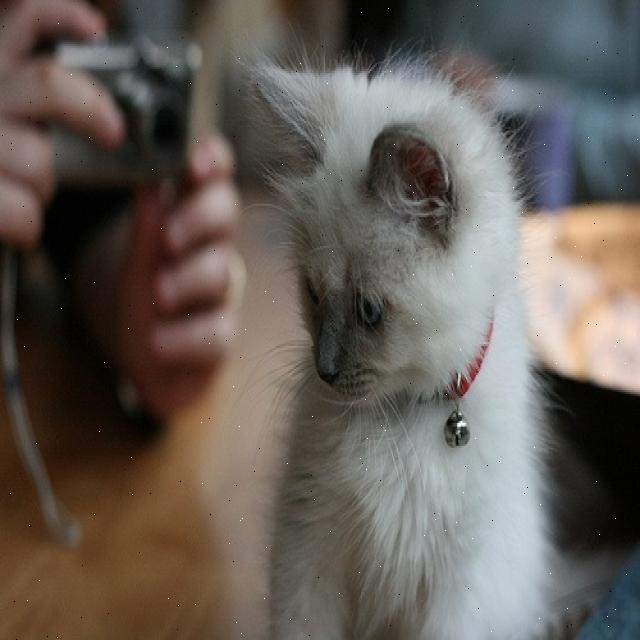cat: (253, 63, 552, 638)
